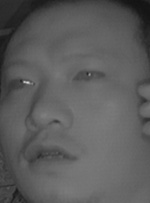eye: (71, 63, 107, 87), (5, 69, 37, 92)
mouth: (23, 135, 78, 171)
